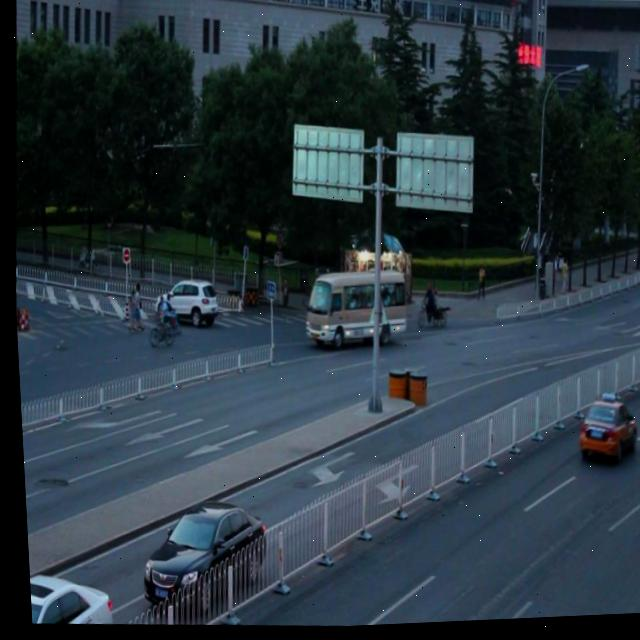car: (134, 497, 264, 623), (23, 568, 111, 628), (572, 398, 632, 466), (149, 278, 216, 333)
truck: (298, 268, 405, 346)
